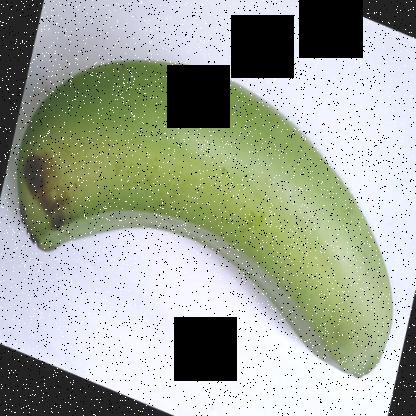freshunripe: (9, 37, 408, 402)
